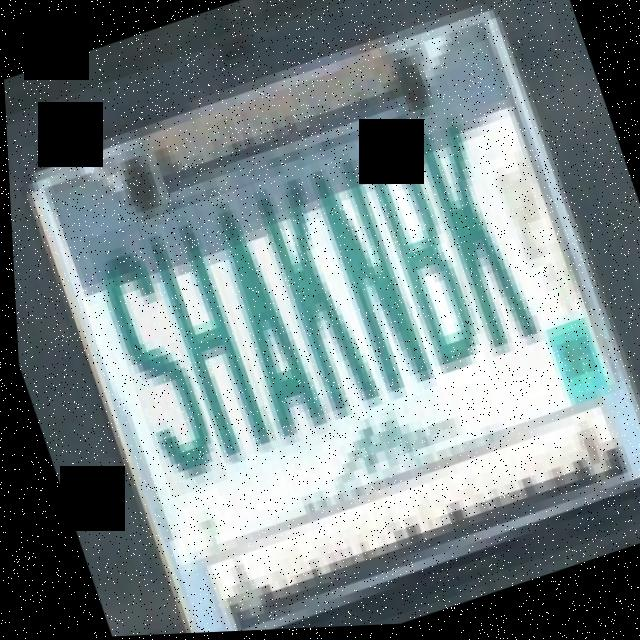A: (189, 180, 336, 462)
B: (352, 126, 488, 399)
H: (132, 199, 274, 469)
K: (404, 109, 547, 391), (246, 168, 386, 445)
N: (299, 148, 439, 412)
S: (80, 219, 224, 502)
